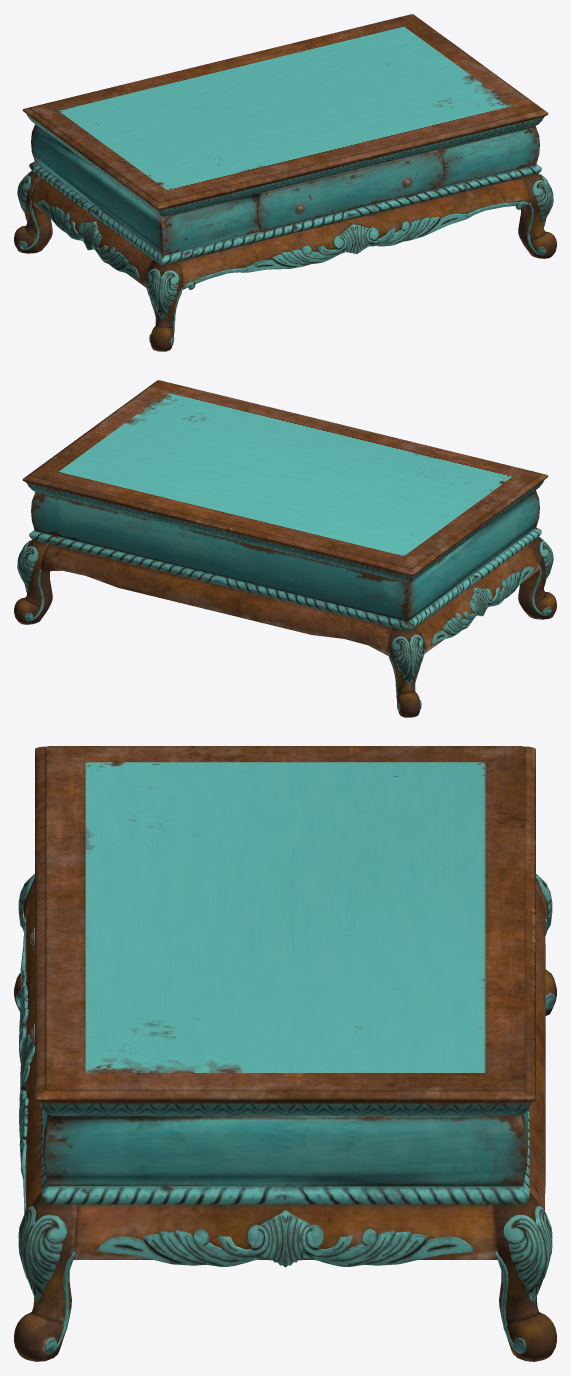
File: CoffeeTable_01.glb
3 renders of one model, top to bottom at view 1: azimuth 30°, elevation 25°; view 2: azimuth 150°, elevation 25°; view 3: azimuth 270°, elevation 25°, orthographic. The views are drawn at different scales.
Visible parts, largest first — view 1: CoffeeTable_01; view 2: CoffeeTable_01; view 3: CoffeeTable_01.
Boxes of the visible parts, <box> form: CoffeeTable_01: <box>14,14,556,351</box>; CoffeeTable_01: <box>14,380,556,717</box>; CoffeeTable_01: <box>14,746,556,1361</box>.
Size of the model in its own units: 1.54 by 0.5232 by 0.9728.
1 material, 1 textured.
